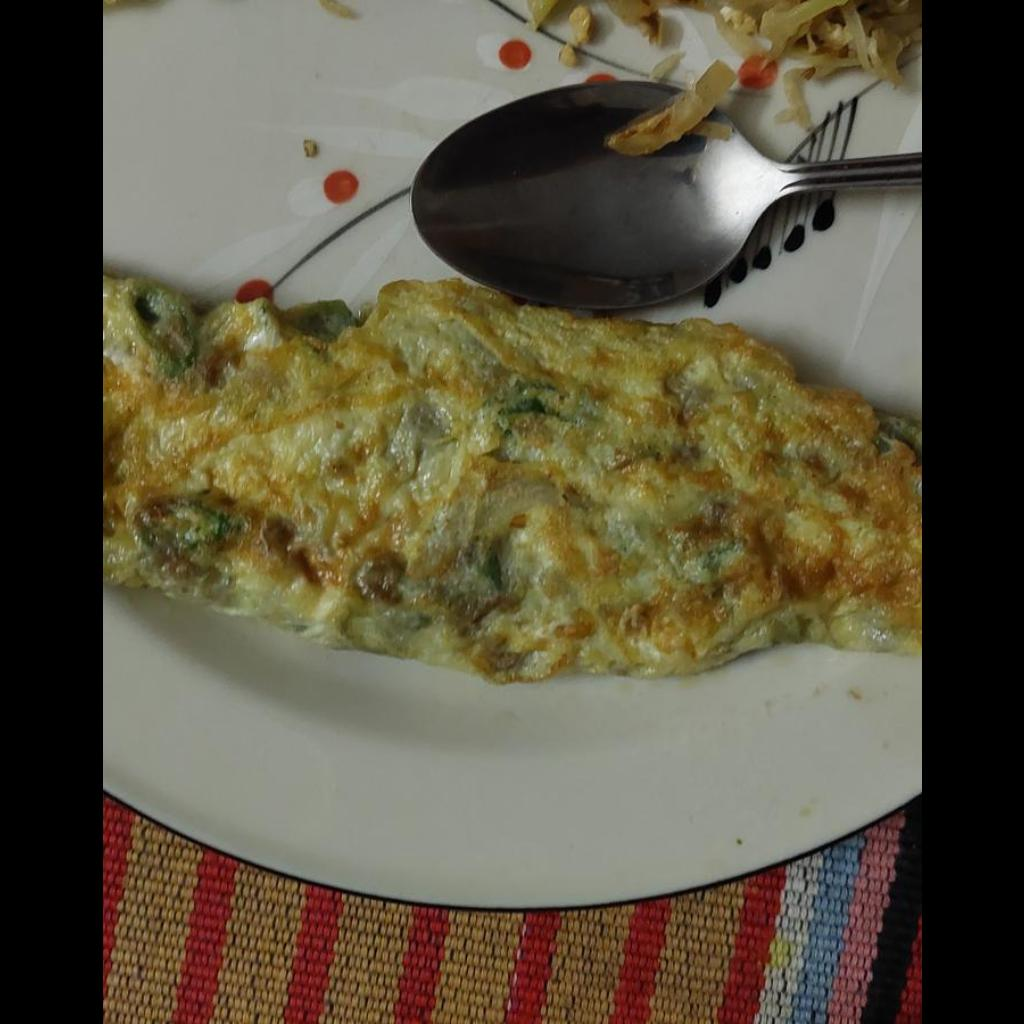egg-poached: (102, 268, 920, 681)
